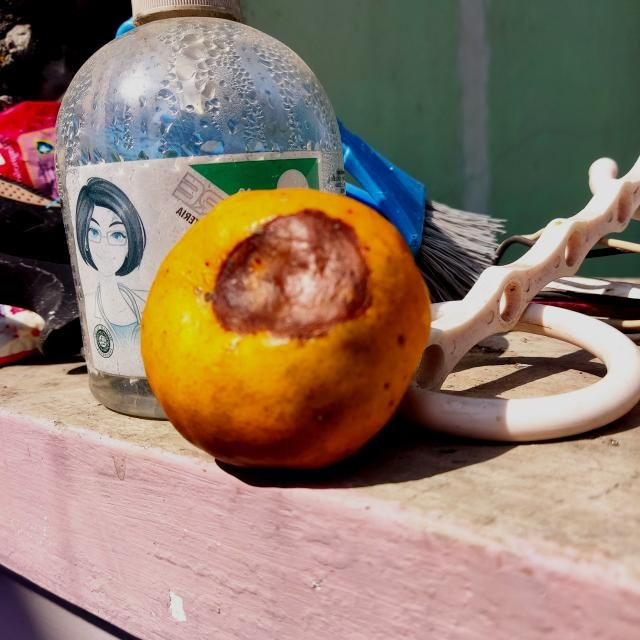agrume: (140, 188, 432, 472)
